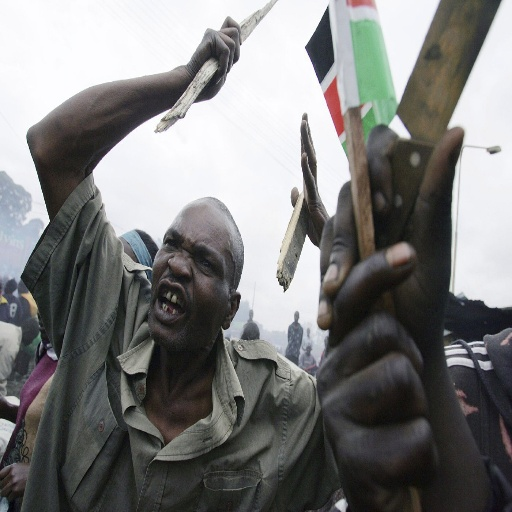hand: (313, 240, 437, 510), (288, 111, 330, 247), (187, 15, 241, 102), (0, 457, 30, 502)
